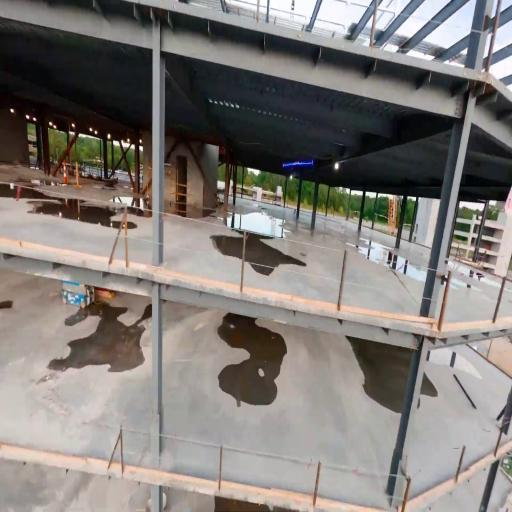uav: (278, 155, 320, 171)
